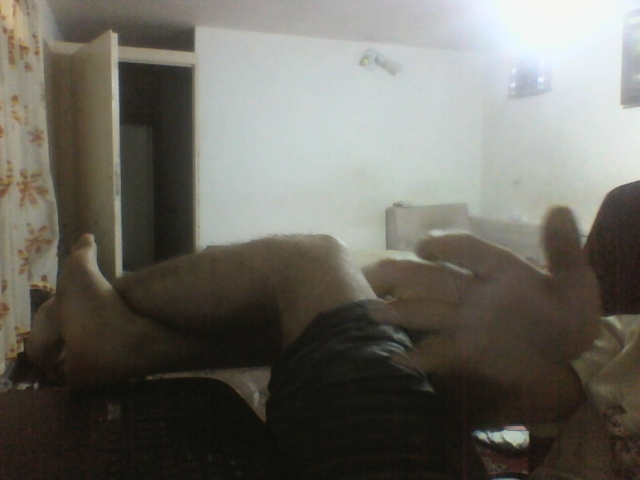taslim: (363, 203, 605, 392)
